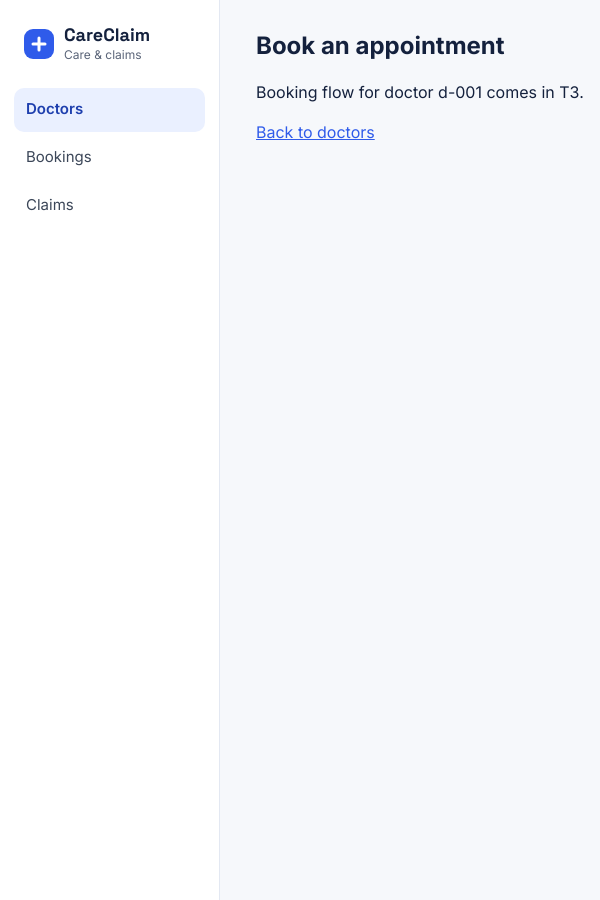
app routes › Doctors stays the active sidebar link on /doctors/:id/book
The image size is (600, 900).
Click the link "Bookings": (59, 157) [26,147,92,166]
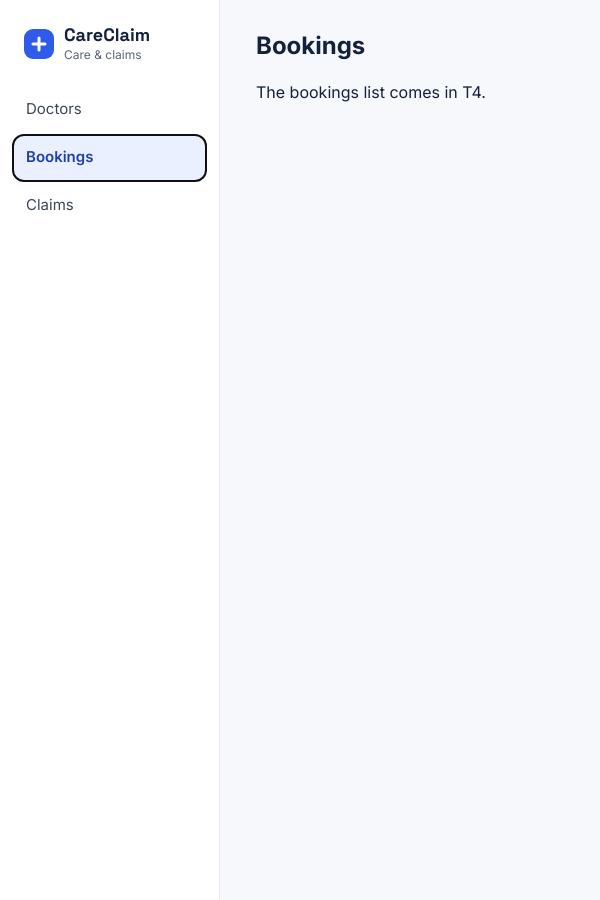
Check: the heading "Bookings" is shown, box [256,31,365,60]
